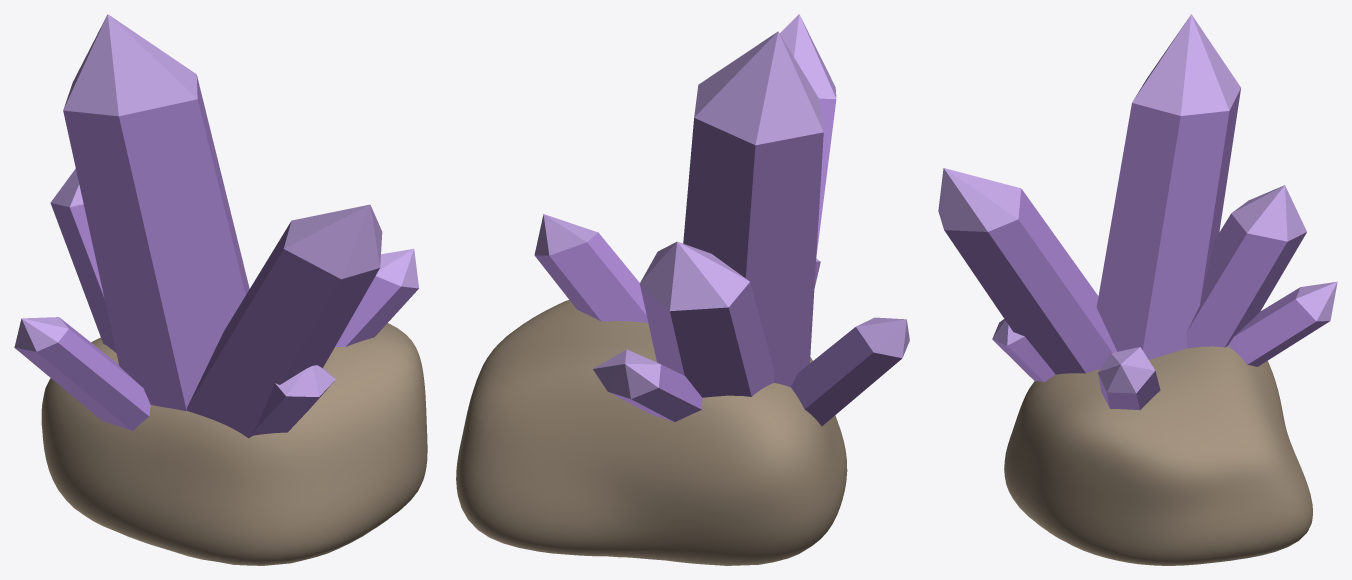
The model's file is geode.glb.
3 views of the same model, side by side, from view 1: azimuth 30°, elevation 25°; view 2: azimuth 150°, elevation 25°; view 3: azimuth 270°, elevation 25° (orthographic). The views are drawn at different scales.
Size of the model in its own units: 0.981 by 1.2 by 0.977.
